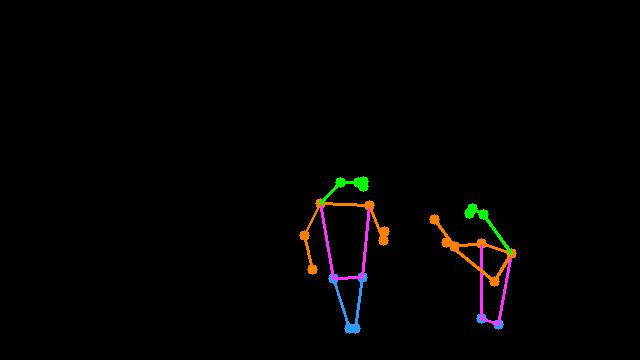normal: (419, 180, 546, 345)
